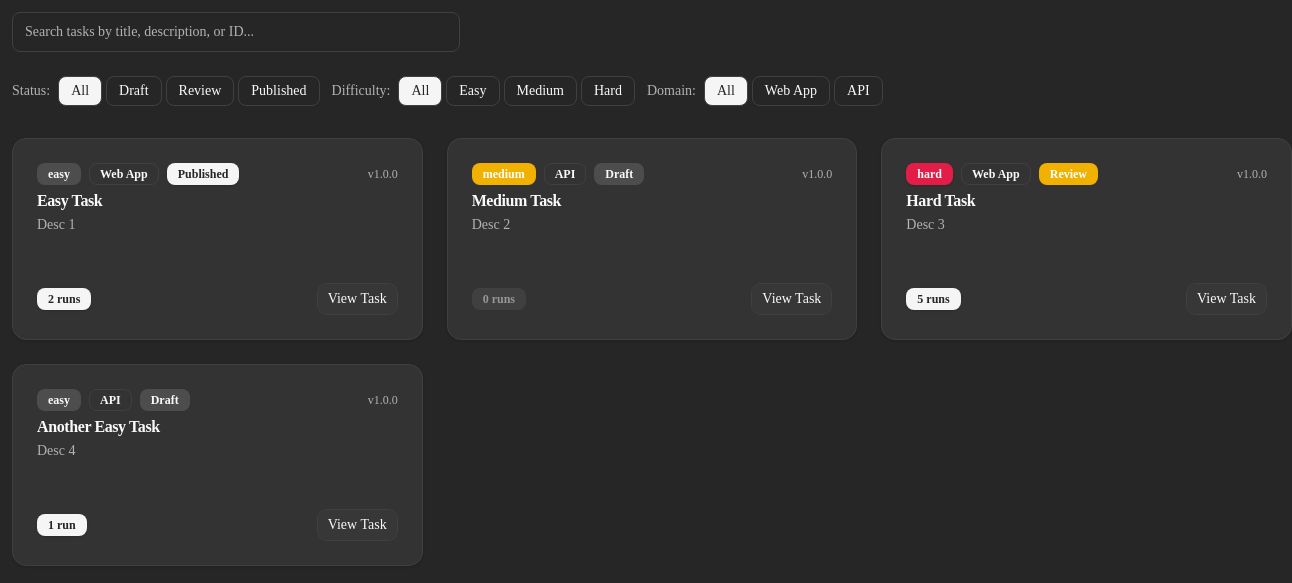
Test: TaskListWithFilters › combines search with status filter
Type "Task" into the field with test id "search-input" at (236, 32), box x1=12 y1=12 x2=460 y2=52
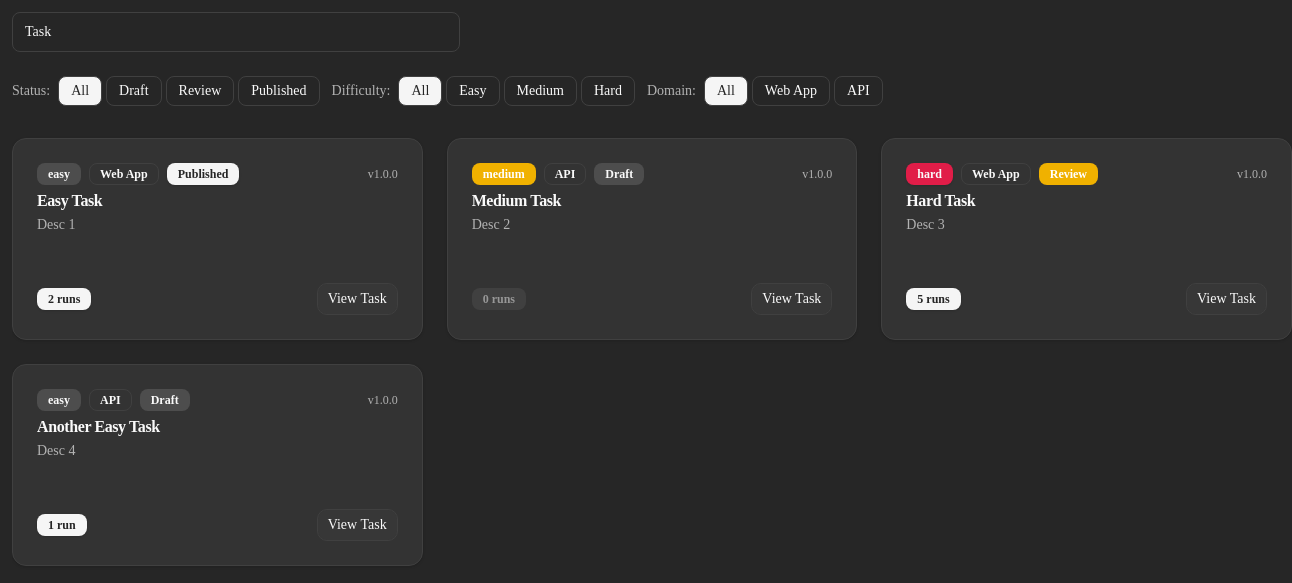
Click the button "published" at (279, 91), box x1=238 y1=76 x2=320 y2=106
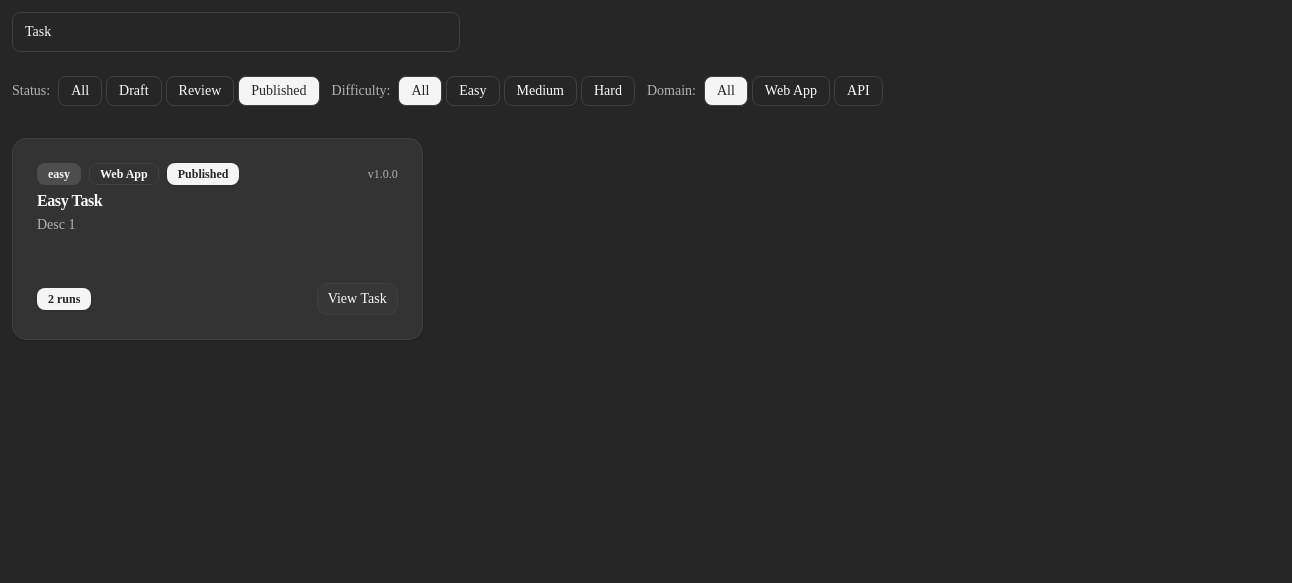
Check: the text "Medium Task" is gone
Check: the text "Hard Task" is gone
Check: the text "Another Easy Task" is gone
